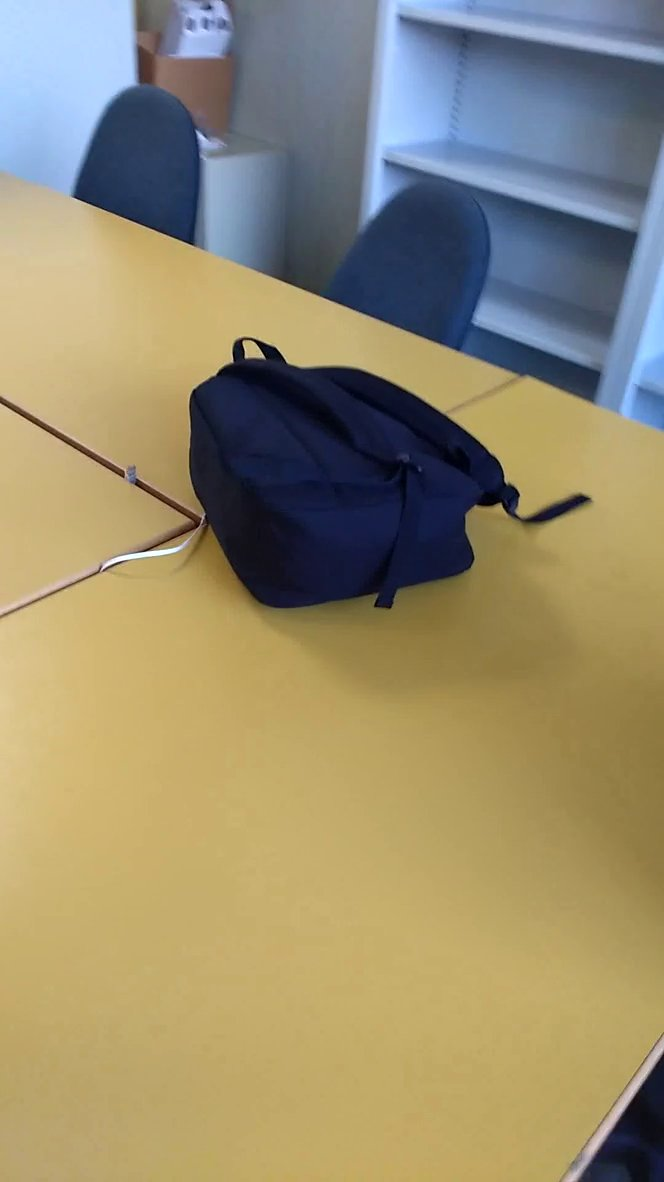bag: (181, 330, 604, 625)
chair: (308, 167, 507, 386), (65, 79, 215, 264)
